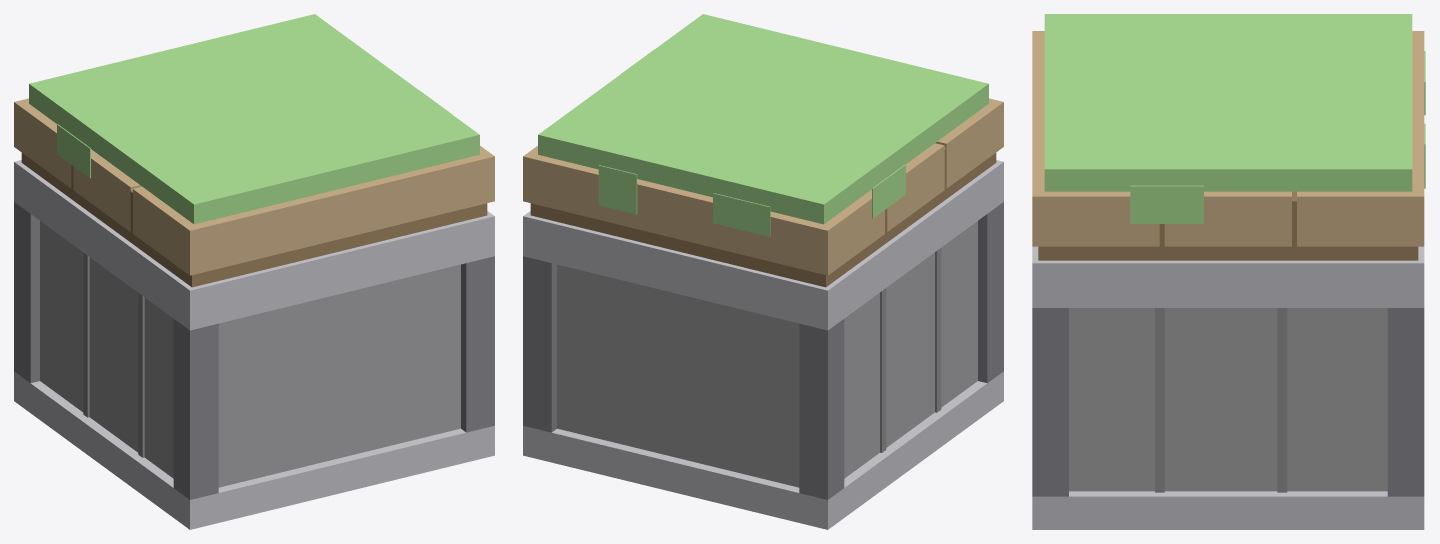
Rendered from sticky_piston_held.gltf.
3 renders of one model, left to right at view 1: azimuth 30°, elevation 25°; view 2: azimuth 150°, elevation 25°; view 3: azimuth 270°, elevation 25°, orthographic. The views are drawn at different scales.
Visible parts, largest first — view 1: cinnabar_sticky_piston_held; view 2: cinnabar_sticky_piston_held; view 3: cinnabar_sticky_piston_held.
Boxes of the visible parts, <box> form: cinnabar_sticky_piston_held: <box>14,14,494,529</box>; cinnabar_sticky_piston_held: <box>523,14,1003,529</box>; cinnabar_sticky_piston_held: <box>1032,14,1425,529</box>.
Size of the model in its own units: 0.161 by 0.16 by 0.1605.
